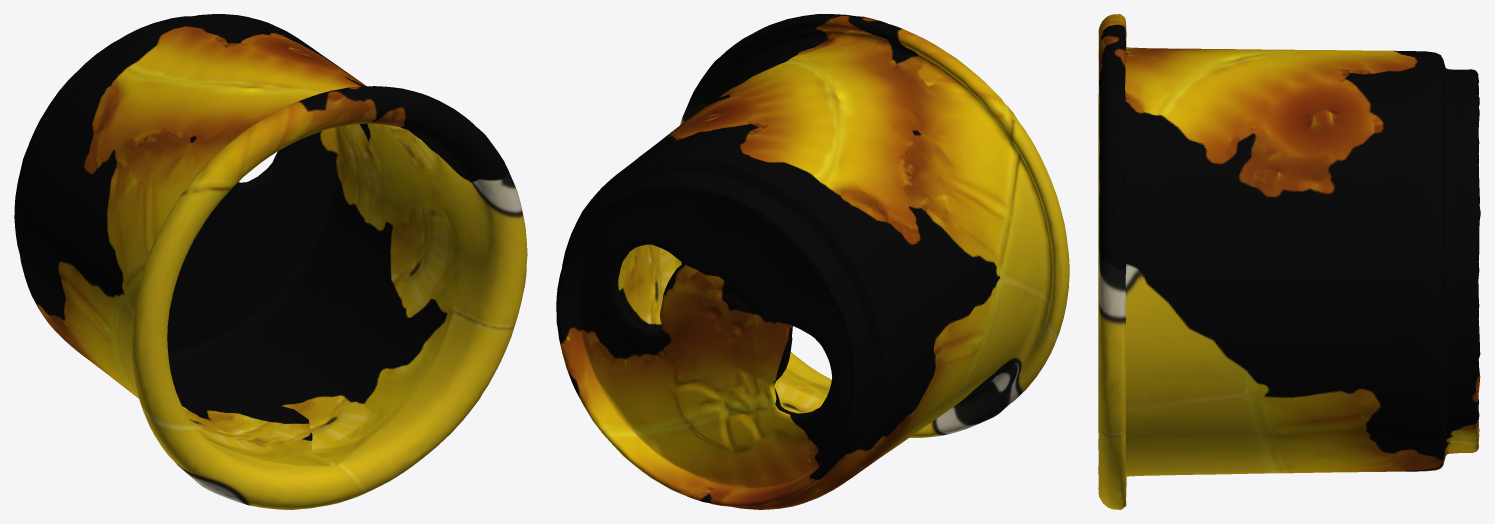
3 views of the same model, side by side, from view 1: azimuth 30°, elevation 25°; view 2: azimuth 150°, elevation 25°; view 3: azimuth 270°, elevation 25° (orthographic). The views are drawn at different scales.
Size of the model in its own units: 0.0982 by 0.098 by 0.0756.
